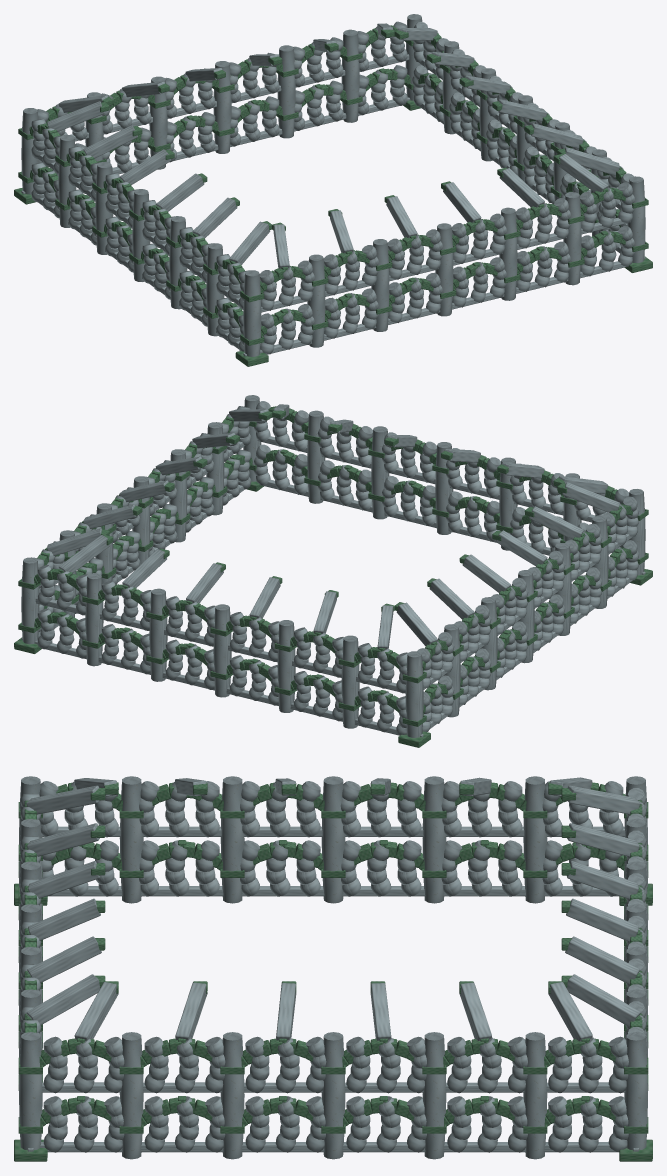
The picture shows the model from 3 angles, top to bottom: view 1: azimuth 30°, elevation 25°; view 2: azimuth 150°, elevation 25°; view 3: azimuth 270°, elevation 25°; orthographic projection. The views are drawn at different scales.
Parts seen in each view (by area): view 1: Tier 0 side 0 post 0, Tier 0 side 2 post 1, Tier 0 side 2 post 2, Tier 0 side 2 post 3, Tier 0 side 0 post 4, Tier 0 side 0 post 5, Tier 0 side 0 post 1, Tier 0 side 0 post 3, Tier 0 side 0 post 2, Tier 0 side 1 post 0, Tier 0 side 3 post 1, Tier 0 side 3 post 2 (+25 smaller); view 2: Tier 0 side 3 post 0, Tier 0 side 2 post 5, Tier 0 side 2 post 2, Tier 0 side 2 post 3, Tier 0 side 2 post 1, Tier 0 side 2 post 4, Tier 0 side 2 post 0, Tier 0 side 0 post 4, Tier 0 side 0 post 5, Tier 0 side 0 post 3, Tier 0 side 1 post 1, Tier 0 side 1 post 2 (+26 smaller); view 3: Tier 0 side 1 post 1, Tier 0 side 1 post 2, Tier 0 side 3 post 2, Tier 0 side 1 post 0, Tier 0 side 1 post 3, Tier 0 side 1 post 4, Tier 0 side 1 post 5, Tier 0 side 3 post 1, Tier 0 side 3 post 4, Tier 0 side 3 post 3, Tier 0 side 3 post 5, Tier 0 side 2 post 0 (+18 smaller).
Part boxes in pixels (x1=…): Tier 0 side 0 post 0: x1=243, y1=270, x2=261, y2=356; Tier 0 side 2 post 1: x1=341, y1=29, x2=359, y2=122; Tier 0 side 2 post 2: x1=277, y1=45, x2=295, y2=138; Tier 0 side 2 post 3: x1=213, y1=61, x2=231, y2=153; Tier 0 side 0 post 4: x1=499, y1=207, x2=517, y2=300; Tier 0 side 0 post 5: x1=563, y1=192, x2=581, y2=285; Tier 0 side 0 post 1: x1=307, y1=254, x2=325, y2=347; Tier 0 side 0 post 3: x1=435, y1=223, x2=453, y2=316; Tier 0 side 0 post 2: x1=371, y1=239, x2=389, y2=331; Tier 0 side 1 post 0: x1=627, y1=176, x2=645, y2=263; Tier 0 side 3 post 1: x1=58, y1=135, x2=76, y2=227; Tier 0 side 3 post 2: x1=95, y1=162, x2=113, y2=254; Tier 0 side 3 post 0: x1=405, y1=651, x2=423, y2=737; Tier 0 side 2 post 5: x1=341, y1=635, x2=359, y2=728; Tier 0 side 2 post 2: x1=149, y1=588, x2=167, y2=681; Tier 0 side 2 post 3: x1=213, y1=604, x2=231, y2=697; Tier 0 side 2 post 1: x1=85, y1=573, x2=103, y2=666; Tier 0 side 2 post 4: x1=277, y1=620, x2=295, y2=712; Tier 0 side 2 post 0: x1=21, y1=557, x2=39, y2=644; Tier 0 side 0 post 4: x1=371, y1=426, x2=389, y2=519; Tier 0 side 0 post 5: x1=307, y1=410, x2=325, y2=503; Tier 0 side 0 post 3: x1=435, y1=442, x2=453, y2=534; Tier 0 side 1 post 1: x1=206, y1=422, x2=224, y2=515; Tier 0 side 1 post 2: x1=169, y1=449, x2=187, y2=542; Tier 0 side 1 post 1: x1=119, y1=1032, x2=143, y2=1159; Tier 0 side 1 post 2: x1=220, y1=1032, x2=244, y2=1159; Tier 0 side 3 post 2: x1=422, y1=776, x2=446, y2=903; Tier 0 side 1 post 0: x1=19, y1=1032, x2=42, y2=1150; Tier 0 side 1 post 3: x1=321, y1=1032, x2=345, y2=1159; Tier 0 side 1 post 4: x1=422, y1=1032, x2=446, y2=1159; Tier 0 side 1 post 5: x1=523, y1=1032, x2=547, y2=1159; Tier 0 side 3 post 1: x1=523, y1=776, x2=547, y2=903; Tier 0 side 3 post 4: x1=220, y1=776, x2=244, y2=903; Tier 0 side 3 post 3: x1=321, y1=776, x2=345, y2=903; Tier 0 side 3 post 5: x1=119, y1=776, x2=143, y2=903; Tier 0 side 2 post 0: x1=624, y1=1032, x2=647, y2=1150.
Bounding box in the file's own units: 2.85 × 0.7131 × 2.85.
2 materials, 2 textured.
